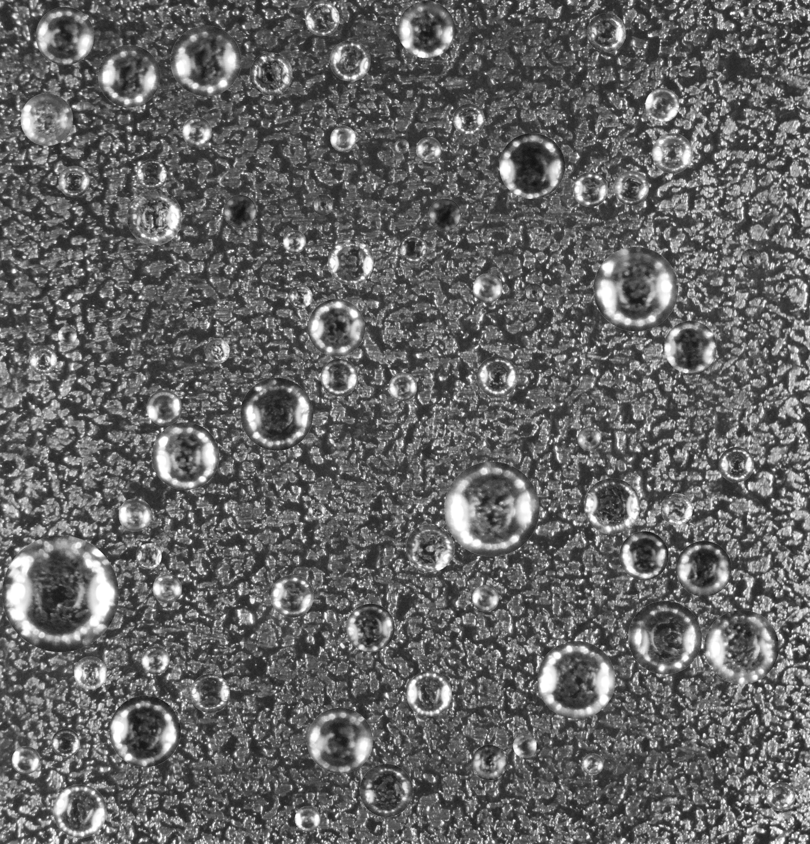Bubble: (2, 535, 118, 652), (444, 461, 539, 556), (593, 246, 678, 331), (537, 641, 615, 718), (704, 610, 778, 684), (628, 600, 701, 674), (240, 377, 313, 450), (109, 695, 180, 767), (170, 25, 241, 96), (151, 422, 219, 490), (307, 707, 372, 773), (499, 133, 565, 198), (98, 45, 160, 107), (35, 6, 93, 64), (307, 299, 365, 356), (398, 0, 455, 57), (584, 478, 640, 534), (676, 541, 731, 596), (127, 190, 182, 245), (53, 784, 106, 837), (359, 764, 412, 817), (664, 320, 716, 373), (20, 93, 72, 145), (619, 531, 668, 580), (346, 603, 394, 652), (406, 524, 454, 572), (328, 239, 373, 284), (406, 671, 451, 716), (249, 52, 292, 95), (270, 574, 313, 617), (476, 356, 517, 397), (329, 40, 370, 81), (652, 133, 692, 173), (190, 673, 229, 713), (587, 13, 626, 52), (320, 358, 358, 396), (471, 745, 507, 780), (718, 447, 754, 482), (146, 390, 181, 425), (614, 170, 648, 205), (573, 172, 607, 206), (305, 1, 339, 35), (645, 88, 679, 121), (223, 194, 256, 227), (428, 198, 461, 231), (73, 656, 106, 689), (118, 498, 151, 531), (660, 493, 692, 525), (58, 165, 89, 197), (453, 103, 484, 135), (136, 159, 166, 189), (473, 273, 502, 302), (182, 117, 211, 146), (388, 372, 417, 401), (152, 574, 181, 603), (766, 782, 795, 811), (51, 728, 79, 757), (11, 746, 39, 774), (141, 646, 169, 674), (399, 235, 427, 263), (28, 345, 56, 373), (135, 543, 161, 569), (330, 125, 356, 151), (472, 585, 498, 611), (294, 806, 320, 831), (204, 338, 229, 363), (416, 137, 441, 162), (577, 426, 601, 450), (513, 734, 536, 757), (283, 230, 306, 253), (289, 285, 312, 308), (582, 753, 603, 775), (312, 194, 333, 215), (741, 248, 761, 268), (524, 283, 543, 302), (58, 325, 76, 344), (308, 502, 325, 520), (394, 139, 409, 153), (740, 6, 753, 19), (3, 82, 14, 92)
